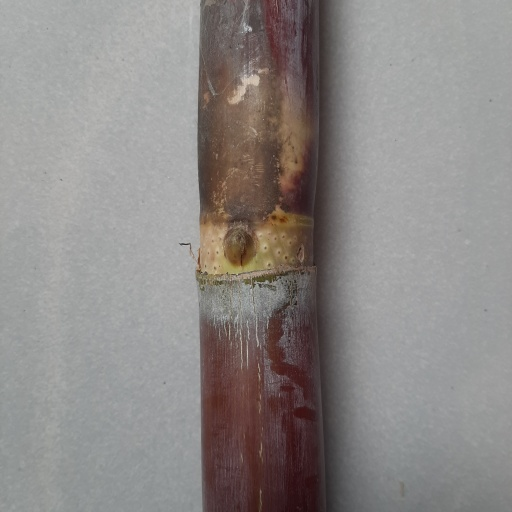Bud: (223, 228, 257, 269)
